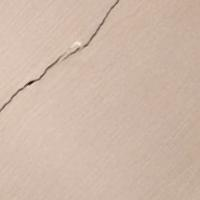crack: (3, 2, 120, 123)
